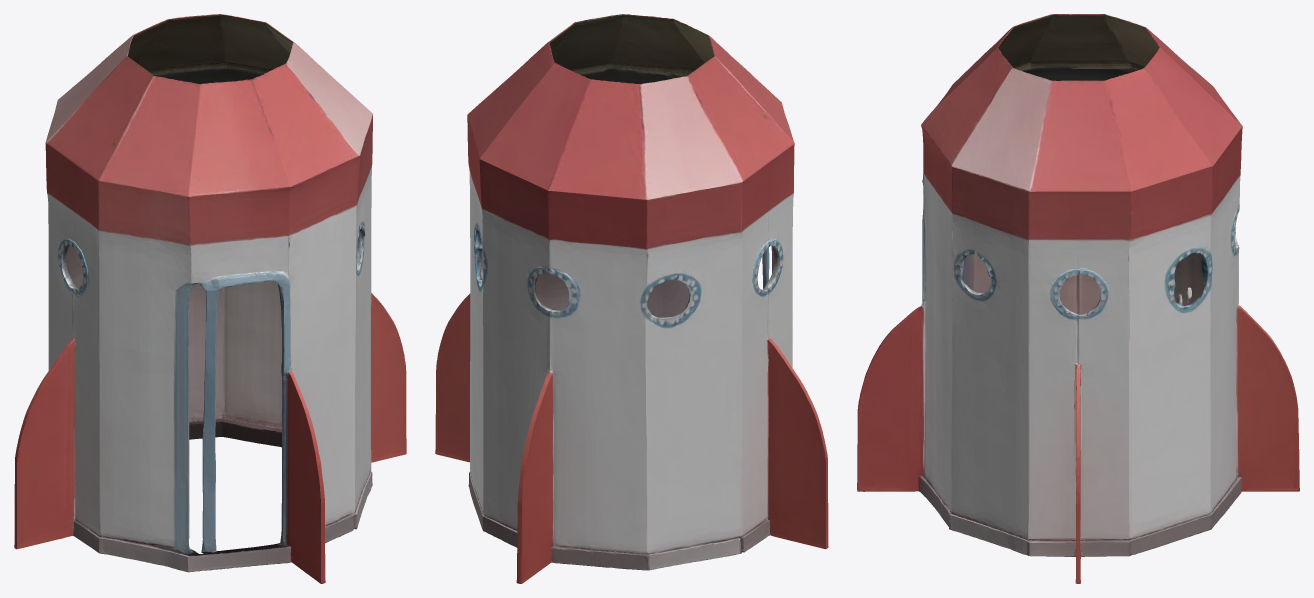
The model's file is 0d8dfb35-7c37-4260-b910-4473f9bfdc02.glb.
3 renders of one model, left to right at view 1: azimuth 30°, elevation 25°; view 2: azimuth 150°, elevation 25°; view 3: azimuth 270°, elevation 25°, orthographic. The views are drawn at different scales.
Parts seen in each view (by area): view 1: world; view 2: world; view 3: world.
Part boxes in pixels (x1=…): world: x1=14, y1=14, x2=406, y2=583; world: x1=435, y1=14, x2=828, y2=583; world: x1=857, y1=14, x2=1299, y2=583.
Size of the model in its own units: 0.9043 by 1 by 0.9056.
1 material, 1 textured.
